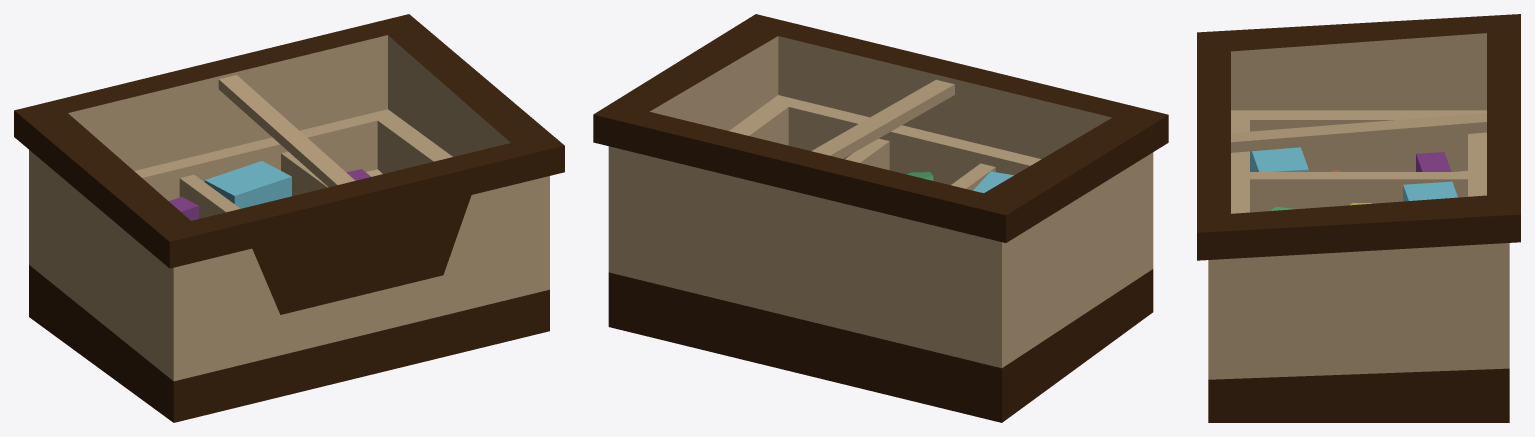
Rendered from FREEZER.fbx.
3 renders of one model, left to right at view 1: azimuth 30°, elevation 25°; view 2: azimuth 150°, elevation 25°; view 3: azimuth 270°, elevation 25°, orthographic. The views are drawn at different scales.
Parts seen in each view (by area): view 1: pCube18; view 2: pCube18; view 3: pCube18.
Part boxes in pixels (x1,y1,x2,y2): pCube18: [14, 14, 564, 422]; pCube18: [593, 14, 1168, 422]; pCube18: [1197, 14, 1520, 422].
Size of the model in its own units: 326 by 162 by 223.
Materials: 7 (1 with a texture image).
